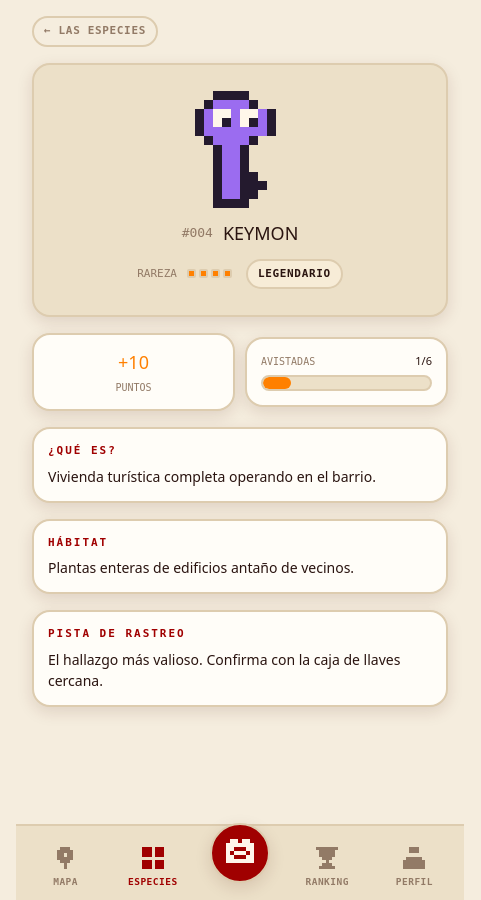
Test: species screen (Pokédex) › deep-links a species detail and goes back to the list
This screenshot has width=481, height=900.
Expected: the text "KEYMON" is shown, [223,220,298,246]
Expected: the text "1/6" is shown, [415,353,432,369]
Click the button "← Las especies" at (95, 31), box [32,16,158,46]
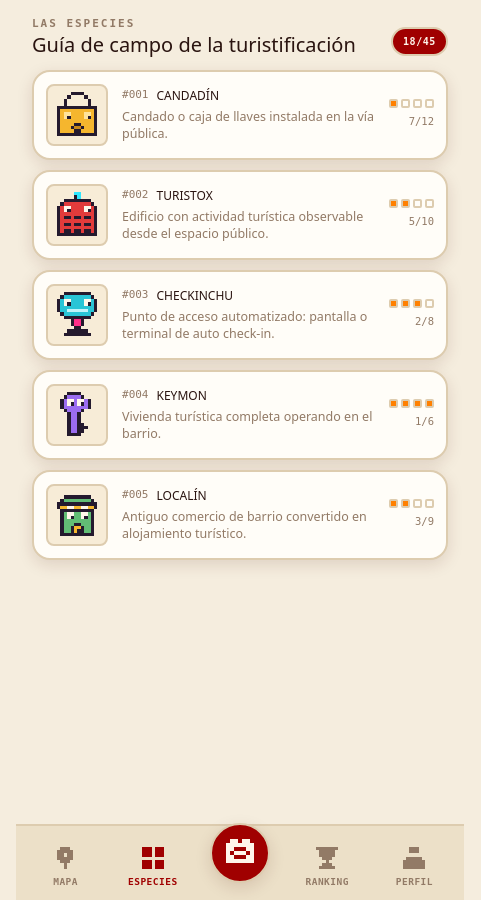
Expected: the text "Guía de campo de la turistificación" is shown, [32,32,356,56]
